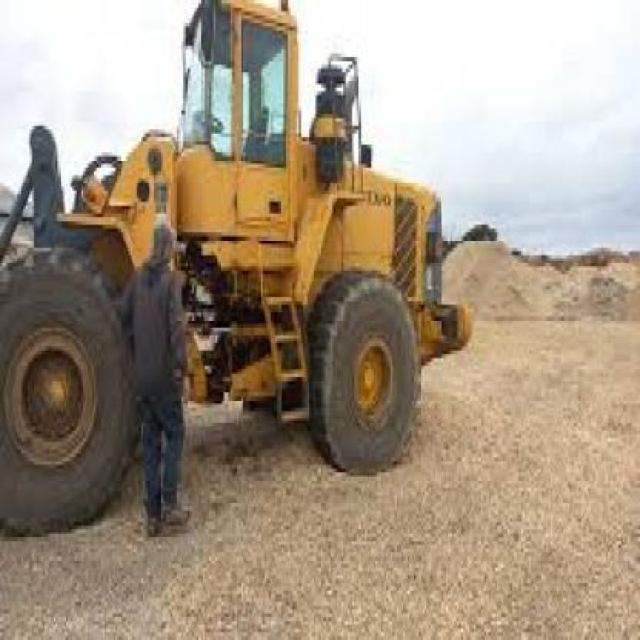buldozerpayloadergrader: (1, 0, 468, 500)
